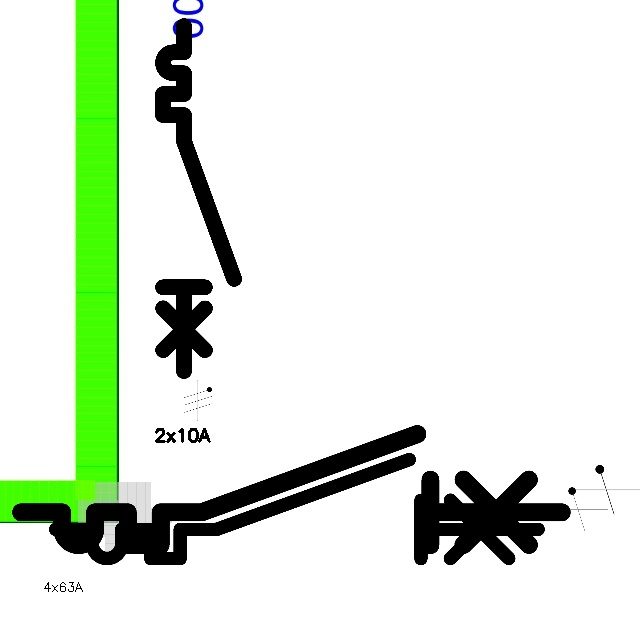interruptor_termomagnetico: (7, 420, 576, 559), (43, 447, 550, 571), (154, 17, 243, 380)
